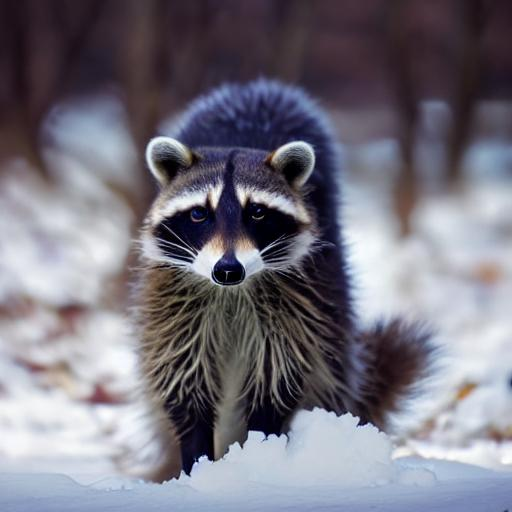raccoon: (115, 67, 450, 437)
